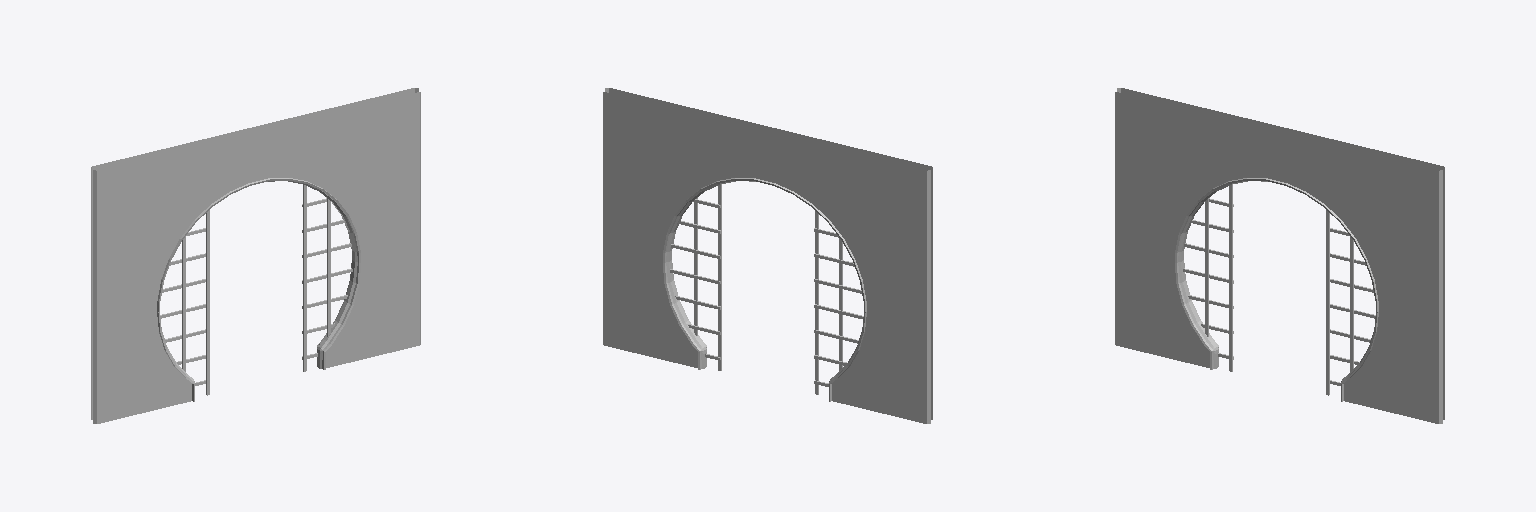
File: wall_1_tunnel_hole_1.obj
3 renders of one model, left to right at view 1: azimuth 30°, elevation 25°; view 2: azimuth 150°, elevation 25°; view 3: azimuth 330°, elevation 25°, orthographic.
Parts seen in each view (by area): view 1: wall_1_tunnel_hole_1; view 2: wall_1_tunnel_hole_1; view 3: wall_1_tunnel_hole_1.
Boxes of the visible parts, box(x1,y1,x2,y2) form: wall_1_tunnel_hole_1: box(91, 88, 420, 423); wall_1_tunnel_hole_1: box(603, 88, 932, 423); wall_1_tunnel_hole_1: box(1115, 88, 1444, 423).
Bounding box in the file's own units: 4.06 × 3 × 0.1697.